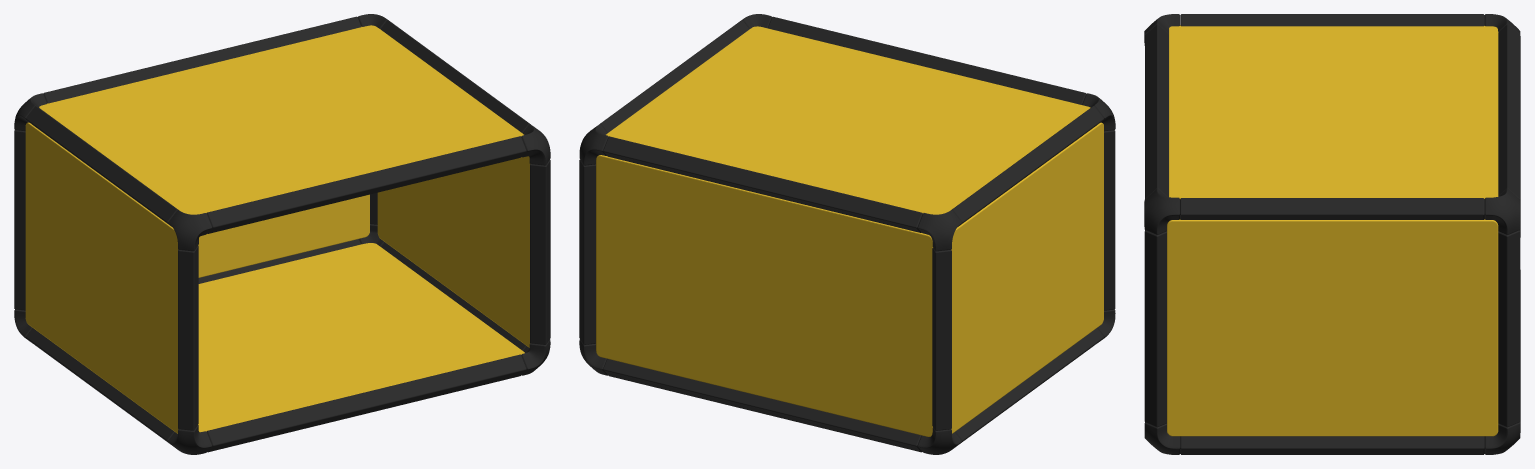
The picture shows the model from 3 angles, left to right: view 1: azimuth 30°, elevation 25°; view 2: azimuth 150°, elevation 25°; view 3: azimuth 270°, elevation 25°; orthographic projection. The views are drawn at different scales.
Parts seen in each view (by area): view 1: 420x329x229; view 2: 420x329x229; view 3: 420x329x229.
Boxes of the visible parts, left/top/right/bottom form: 420x329x229: left=14, top=14, right=550, bottom=454; 420x329x229: left=579, top=14, right=1115, bottom=454; 420x329x229: left=1144, top=14, right=1520, bottom=454.
Bounding box in the file's own units: 0.4977 × 0.3066 × 0.4063.
